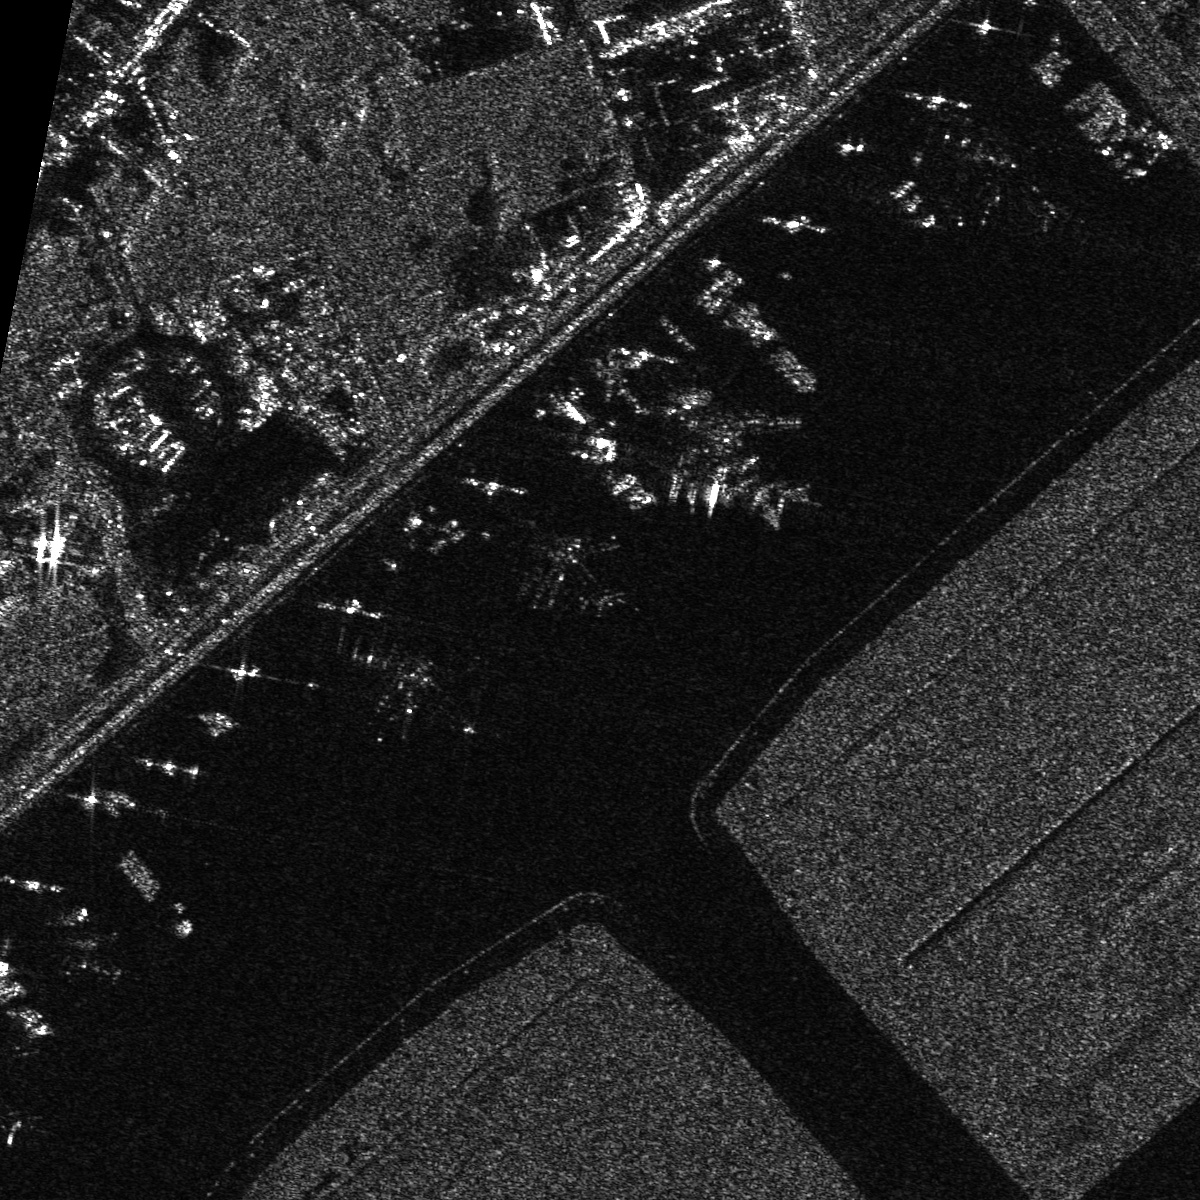Boeing737: (531, 530, 629, 622)
other: (667, 405, 824, 532), (338, 649, 482, 751), (964, 132, 1073, 241), (57, 909, 131, 987)
